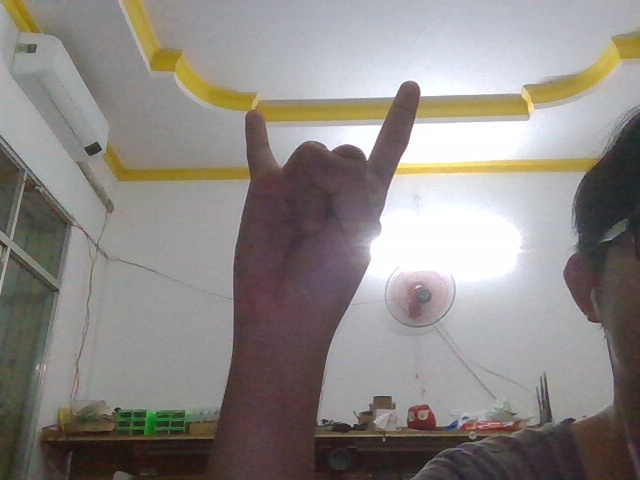yolo: (217, 61, 425, 358)
